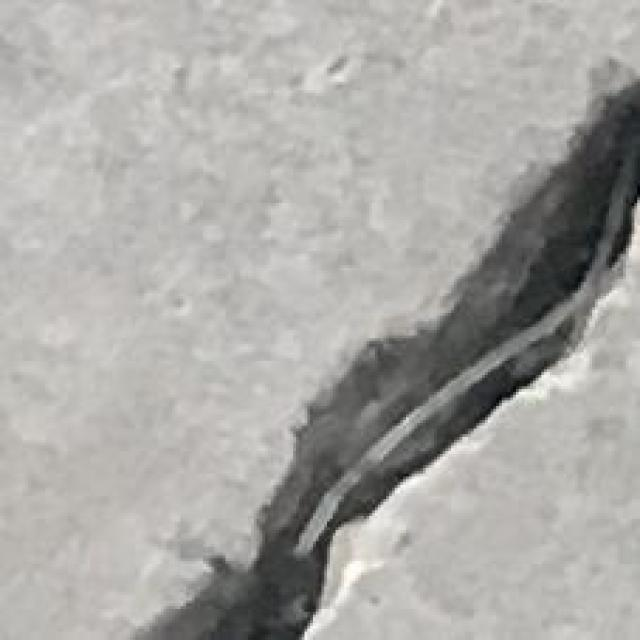Crack: (138, 70, 626, 640)
